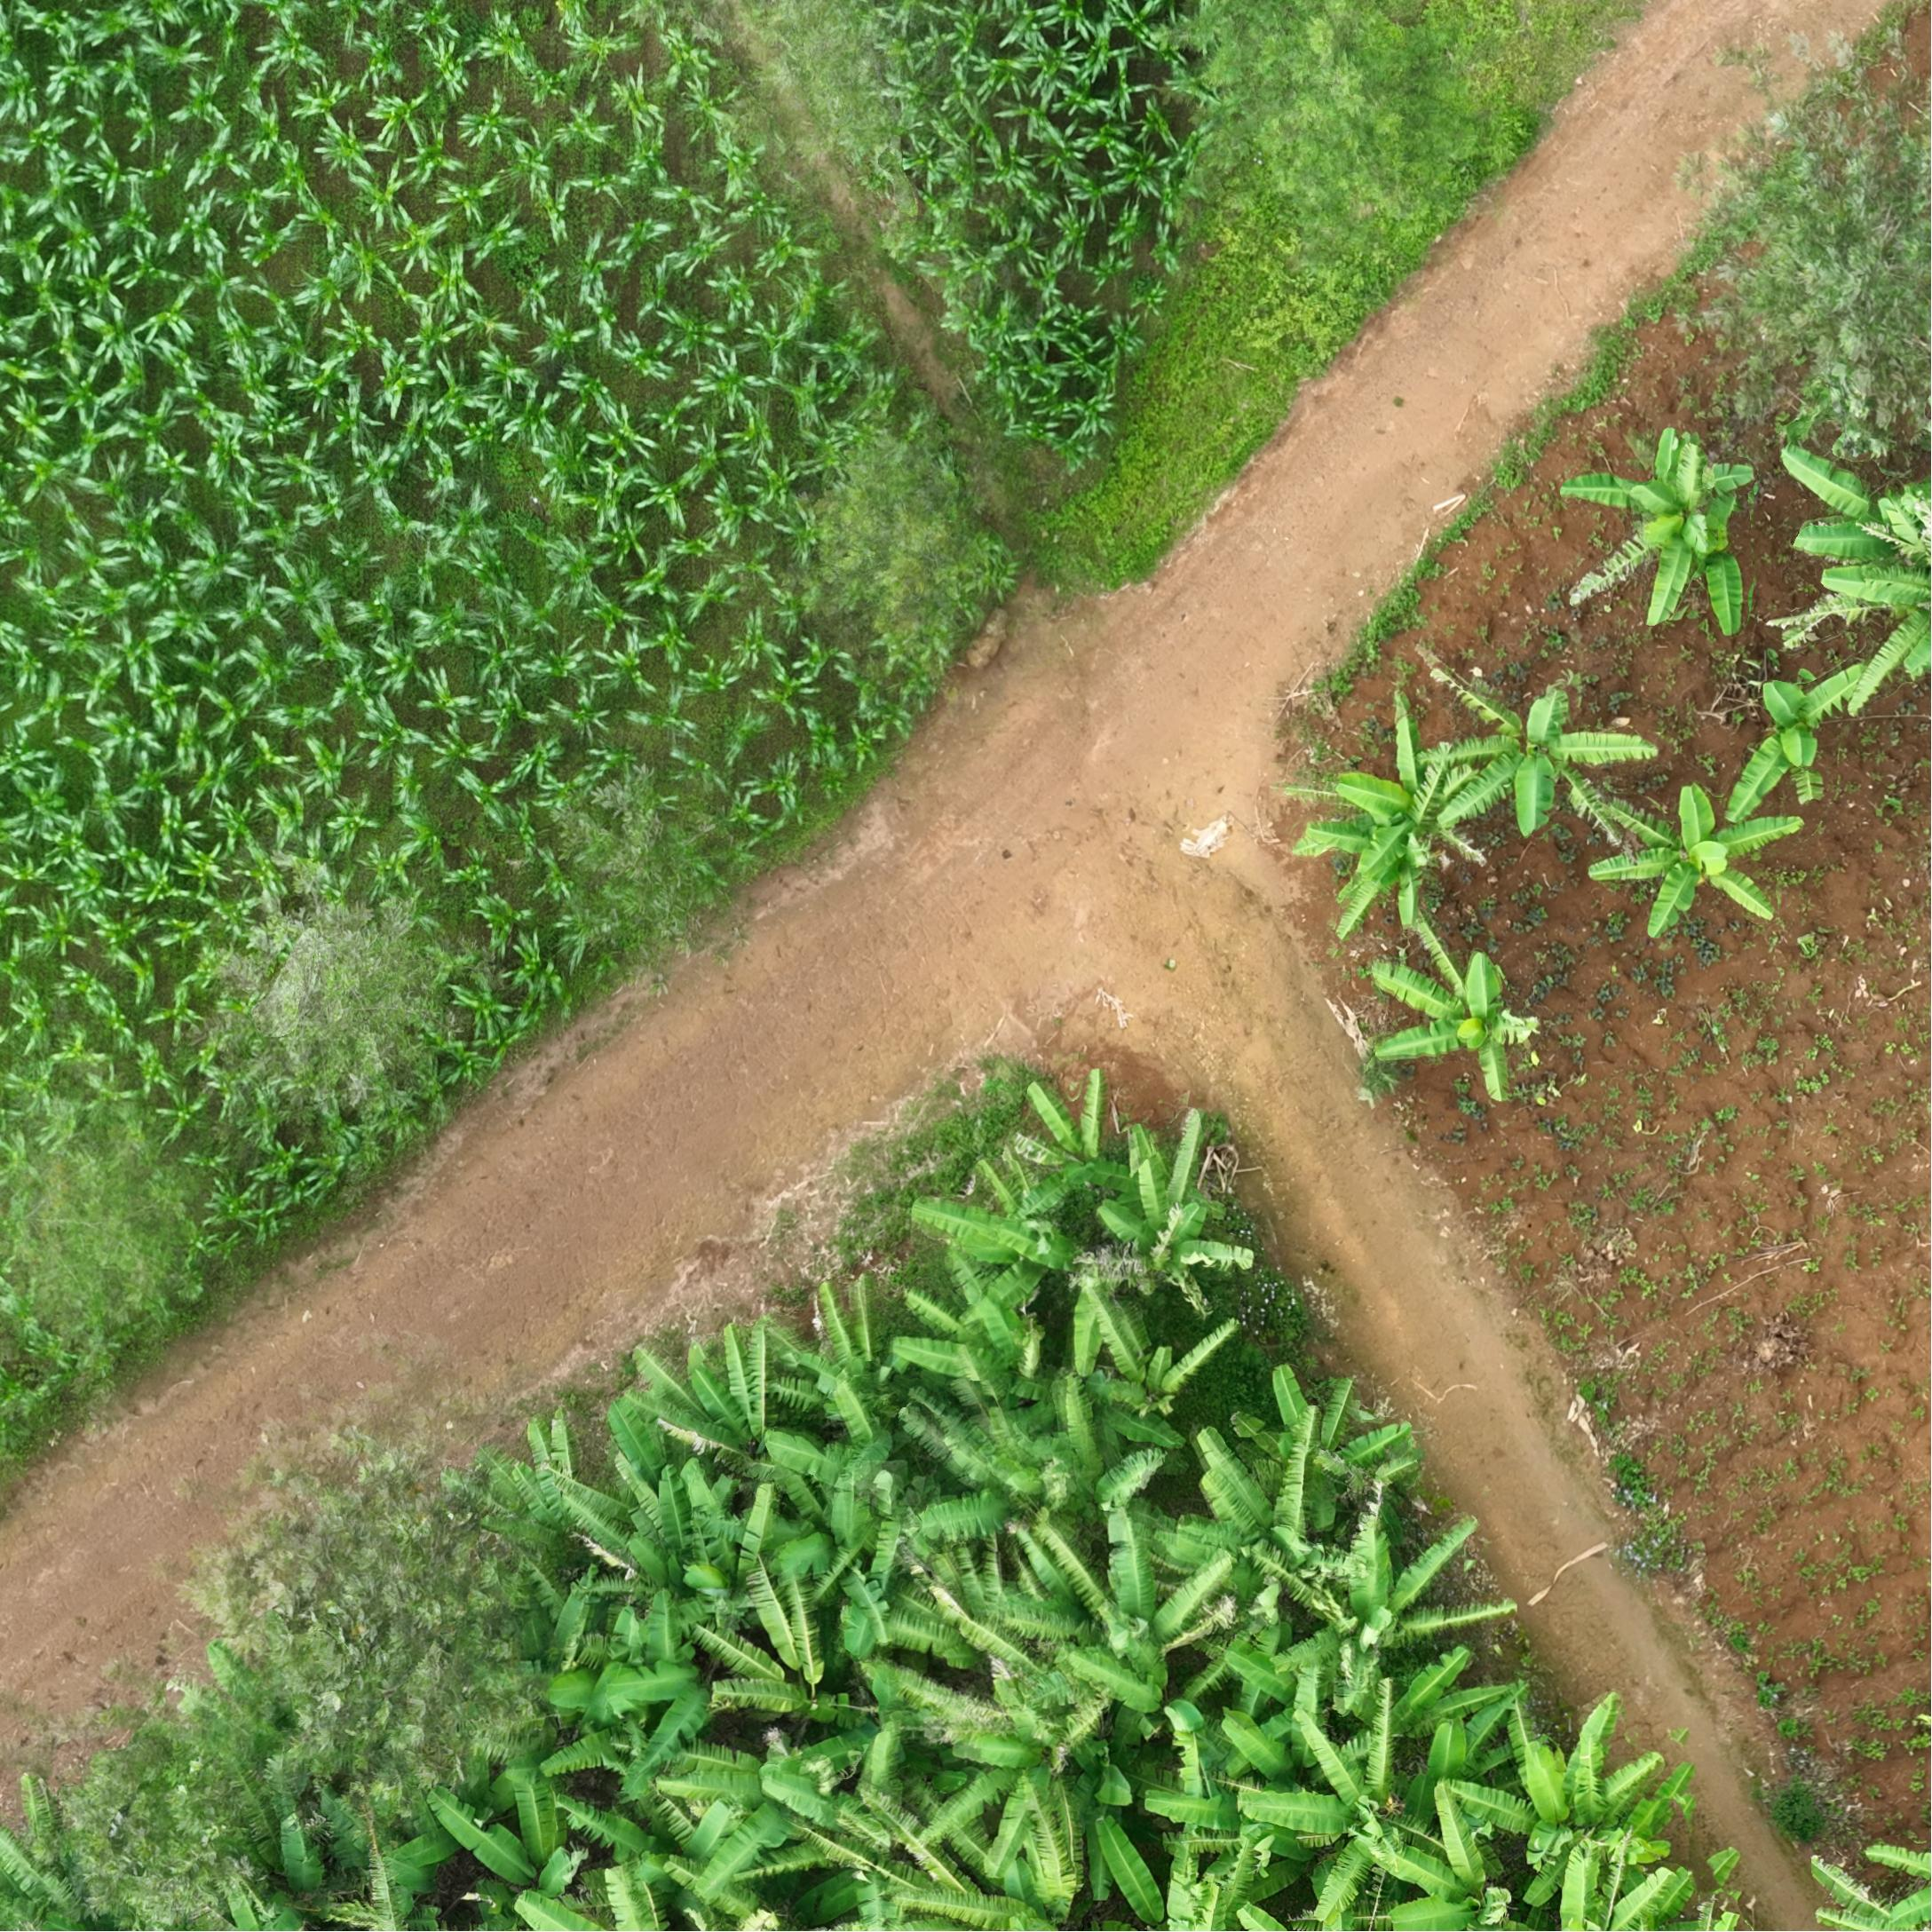Banana: (1330, 757, 1545, 978), (1633, 439, 1833, 663), (1483, 685, 1713, 876), (1322, 1599, 1580, 1766), (1077, 1573, 1290, 1775), (1654, 814, 1874, 984), (1421, 966, 1621, 1148), (966, 1750, 1155, 1932), (1281, 1414, 1465, 1591), (1309, 1764, 1488, 1932), (541, 1649, 686, 1851), (660, 1408, 881, 1536), (766, 1548, 941, 1707), (1162, 1783, 1350, 1930), (920, 1461, 1102, 1608), (706, 1801, 904, 1932), (448, 1472, 630, 1610), (1536, 1794, 1718, 1932), (1792, 692, 1932, 865), (911, 1608, 1086, 1739), (156, 1723, 327, 1856), (1852, 455, 1932, 731), (225, 1815, 412, 1932), (623, 1525, 775, 1668), (732, 1647, 879, 1794), (623, 1679, 759, 1836), (1134, 1226, 1288, 1361), (1019, 1122, 1173, 1254), (950, 1203, 1111, 1329), (801, 1330, 947, 1468), (1154, 1150, 1302, 1277), (1380, 1727, 1552, 1829), (584, 1859, 817, 1932), (1047, 1389, 1189, 1504), (918, 1353, 1076, 1456), (932, 1309, 1111, 1399), (442, 1854, 630, 1932), (418, 1819, 540, 1932), (593, 1435, 702, 1559), (840, 1852, 993, 1932)
